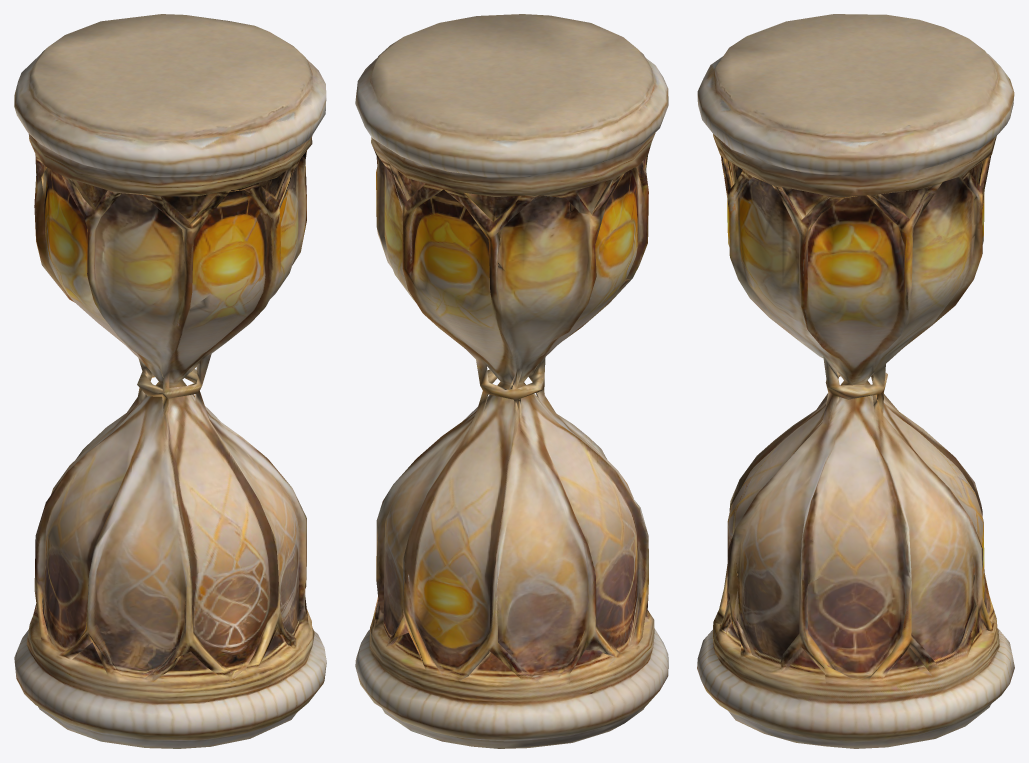
The model's file is testHourglassOrange.glb.
The picture shows the model from 3 angles, left to right: view 1: azimuth 30°, elevation 25°; view 2: azimuth 150°, elevation 25°; view 3: azimuth 270°, elevation 25°; orthographic projection.
Visible parts, largest first — view 1: Mesh_0; view 2: Mesh_0; view 3: Mesh_0.
Boxes of the visible parts, x1,y1,x2,y2 form: Mesh_0: (14,14,326,748); Mesh_0: (355,14,668,748); Mesh_0: (697,14,1014,748).
Size of the model in its own units: 0.4604 by 1 by 0.4645.
1 material, 1 textured.
